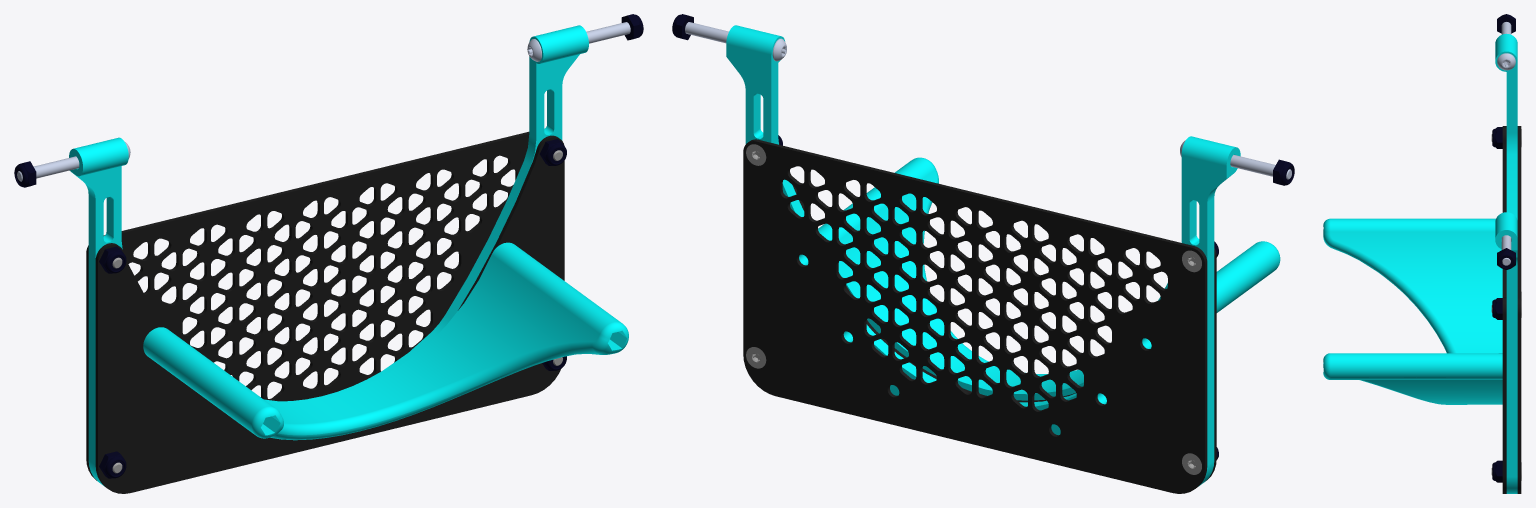
File: Coffee_ v22.fbx
3 views of the same model, side by side, from view 1: azimuth 30°, elevation 25°; view 2: azimuth 150°, elevation 25°; view 3: azimuth 270°, elevation 25° (orthographic). The views are drawn at different scales.
Parts seen in each view (by area): view 1: Body1 (×6); view 2: Body1 (×5); view 3: Body1 (×8).
Boxes of the visible parts, x1,y1,x2,y2 form: Body1 (×6): (17,22,630,493); Body1 (×5): (685,22,1280,493); Body1 (×8): (1323,14,1521,493).
Size of the model in its own units: 9.5 by 5.19 by 3.31.
